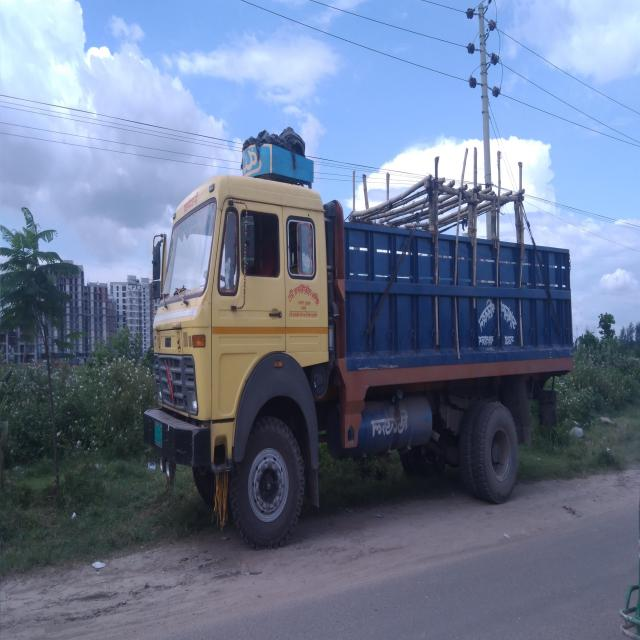truck: (130, 110, 580, 542)
